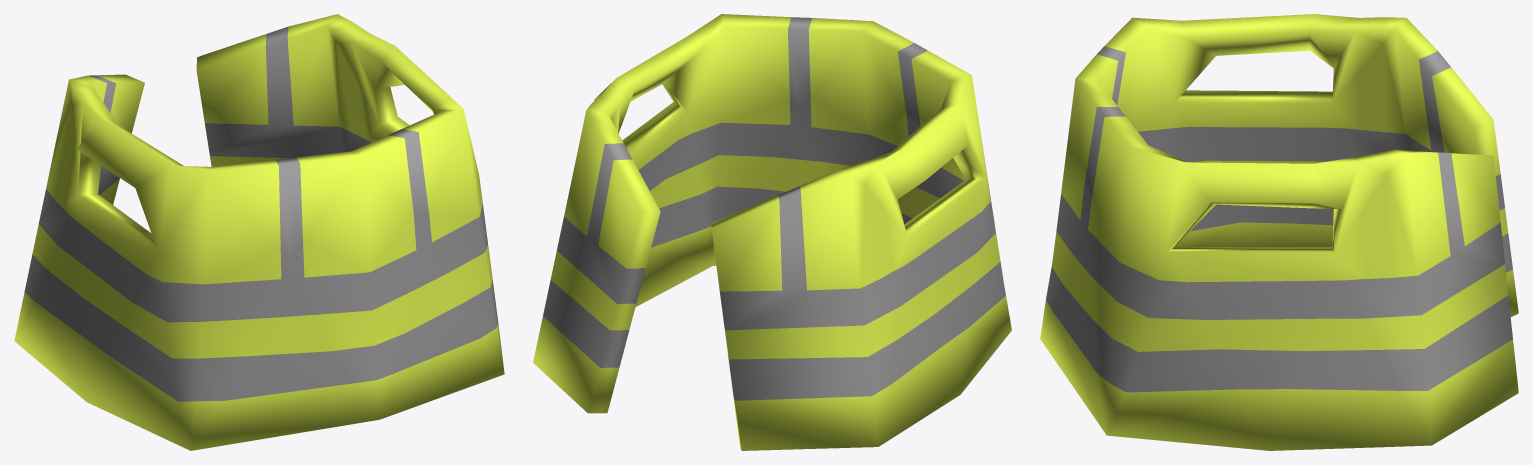
Rendered from SecurityVest.gltf.
3 views of the same model, side by side, from view 1: azimuth 30°, elevation 25°; view 2: azimuth 150°, elevation 25°; view 3: azimuth 270°, elevation 25° (orthographic). The views are drawn at different scales.
Parts seen in each view (by area): view 1: SecurityVest; view 2: SecurityVest; view 3: SecurityVest.
Part boxes in pixels (x1,y1,x2,y2): SecurityVest: (14,14,504,450); SecurityVest: (533,14,1011,450); SecurityVest: (1040,14,1518,450).
Bounding box in the file's own units: 0.3778 × 0.2681 × 0.4128.
1 material, 1 textured.
